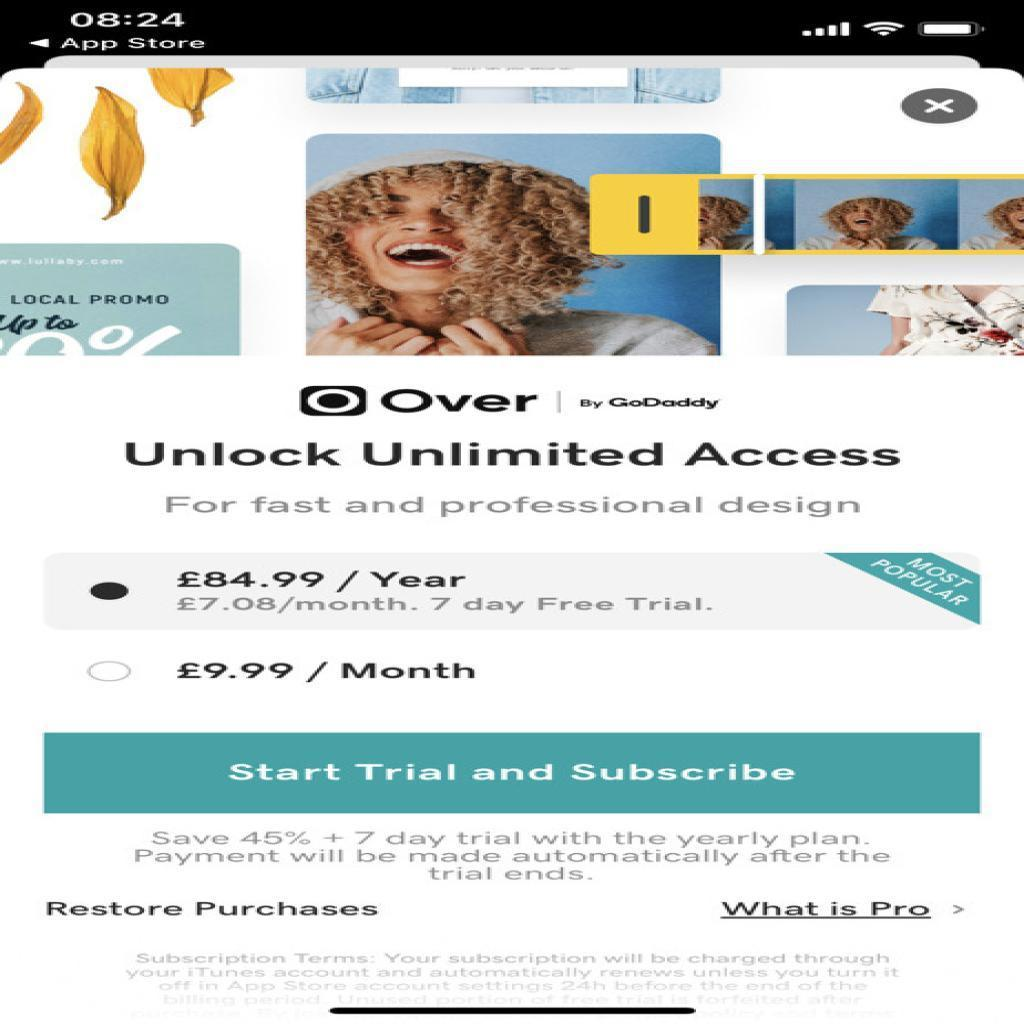button: (44, 731, 983, 815)
icon: (921, 97, 959, 117)
label: (121, 436, 910, 471), (178, 658, 486, 687), (175, 567, 471, 594), (40, 898, 386, 921), (718, 895, 974, 923)
radio: (87, 661, 133, 684), (90, 581, 130, 603)
